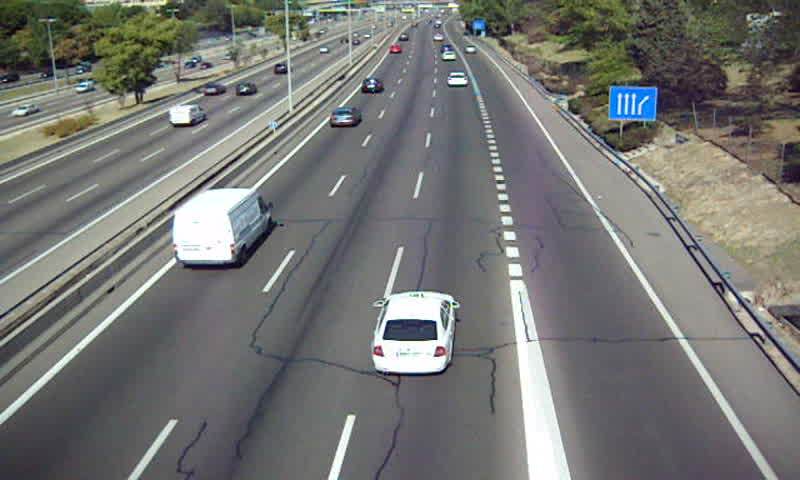car: (372, 292, 455, 374), (329, 107, 362, 128), (360, 77, 383, 96), (445, 72, 470, 88)
van: (173, 188, 270, 266)
